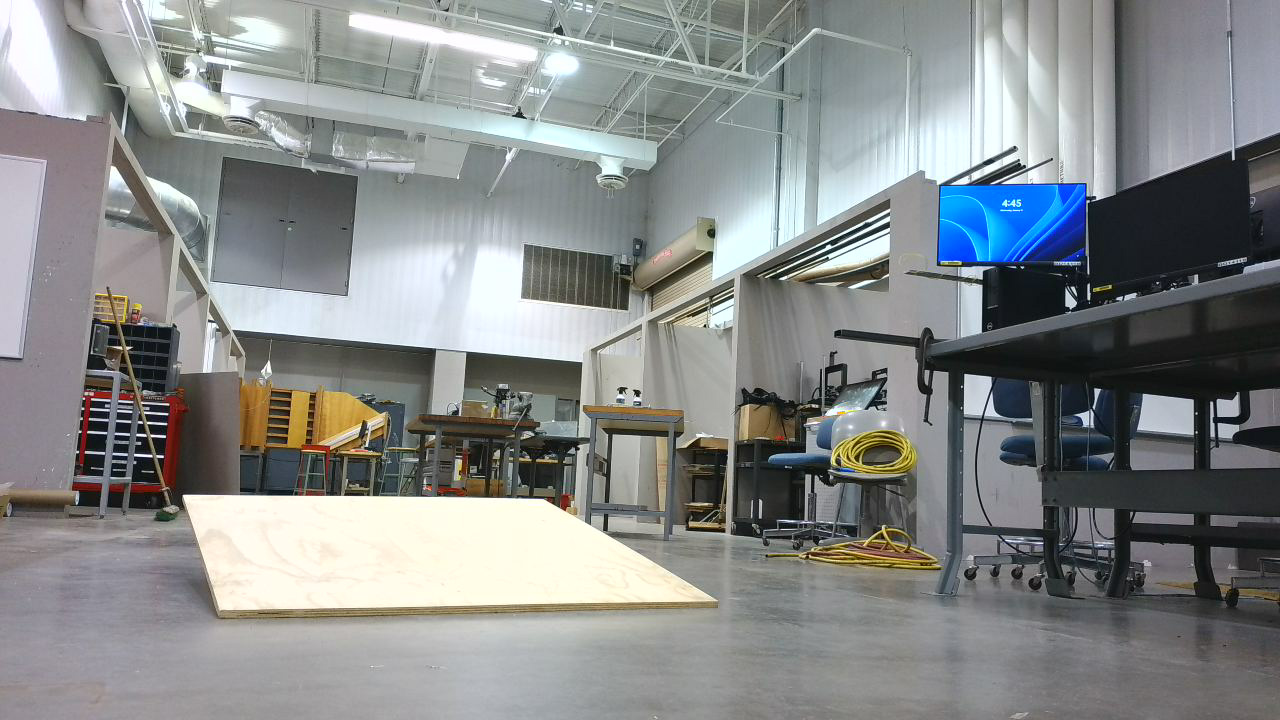ramp: (183, 493, 730, 627)
